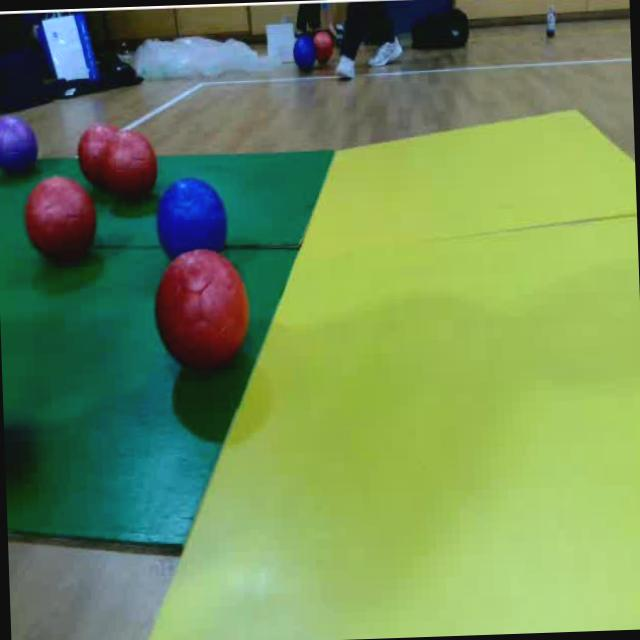blue_ball: (153, 176, 230, 250)
purple_ball: (0, 110, 38, 177)
red_ball: (150, 247, 258, 379), (18, 169, 96, 270), (96, 125, 158, 208), (75, 126, 102, 180)
